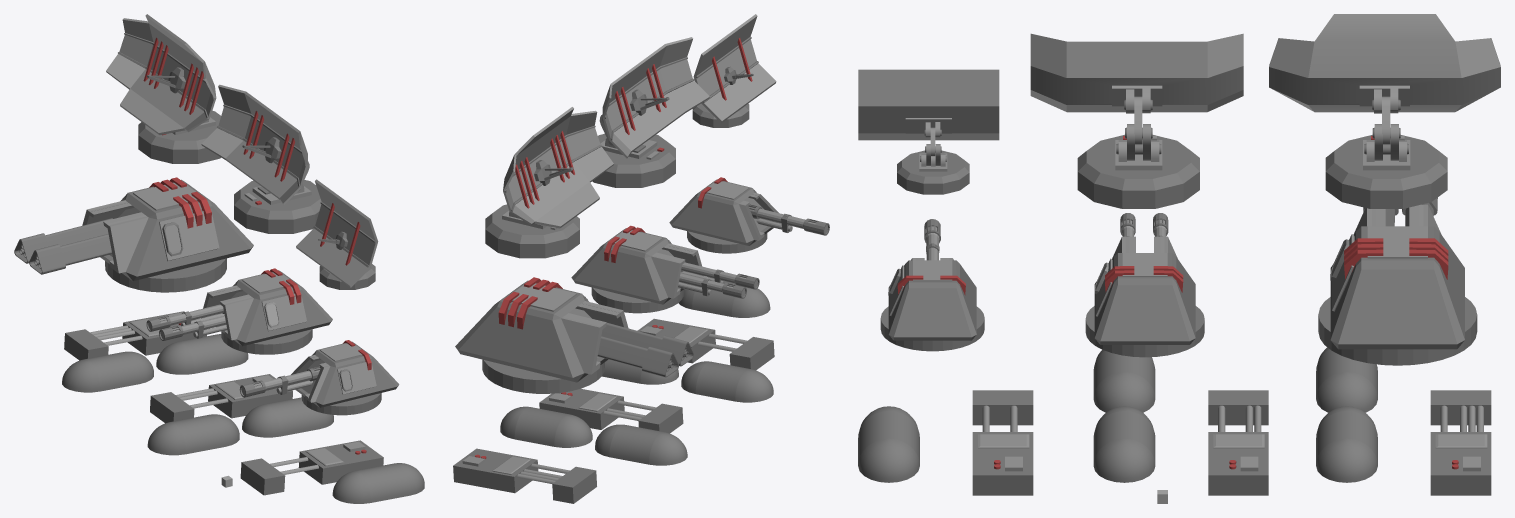
File: Upgrades.fbx
The picture shows the model from 3 angles, left to right: view 1: azimuth 30°, elevation 25°; view 2: azimuth 150°, elevation 25°; view 3: azimuth 270°, elevation 25°; orthographic projection. The views are drawn at different scales.
Visible parts, largest first — view 1: Turret3, Radar3, Radar2, Turret2, Shield2, Shield3, Shield1, Turret1, Radar1; view 2: Turret3, Radar3, Radar2, Shield3, Turret2, Shield2, Turret1, Radar1, Shield1; view 3: Radar3, Radar2, Turret3, Shield2, Shield3, Radar1, Turret2, Shield1, Turret1.
Part boxes in pixels (box(x1,y1,x2,y2)): Turret3: box(14, 177, 253, 292); Radar3: box(106, 14, 220, 163); Radar2: box(201, 84, 321, 233); Turret2: box(146, 268, 332, 354); Shield2: box(147, 374, 333, 455); Shield3: box(62, 311, 248, 392); Shield1: box(240, 440, 424, 503); Turret1: box(239, 340, 399, 415); Radar1: box(296, 179, 378, 289); Turret3: box(455, 277, 693, 393); Radar3: box(485, 107, 613, 258); Radar2: box(592, 37, 709, 187); Shield3: box(453, 406, 687, 503); Turret2: box(571, 225, 759, 313); Shield2: box(539, 359, 773, 433); Turret1: box(669, 177, 829, 253); Radar1: box(692, 14, 776, 127); Shield1: box(637, 277, 774, 370); Radar3: box(1269, 14, 1500, 208); Radar2: box(1030, 33, 1243, 208); Turret3: box(1318, 197, 1477, 365); Shield2: box(1093, 350, 1268, 495); Shield3: box(1316, 347, 1491, 495); Radar1: box(858, 69, 999, 194); Turret2: box(1085, 213, 1204, 357); Shield1: box(858, 390, 1033, 495); Turret1: box(880, 219, 984, 351).
Bounding box in the file's own units: 4.82 × 8.86 × 10.25.
